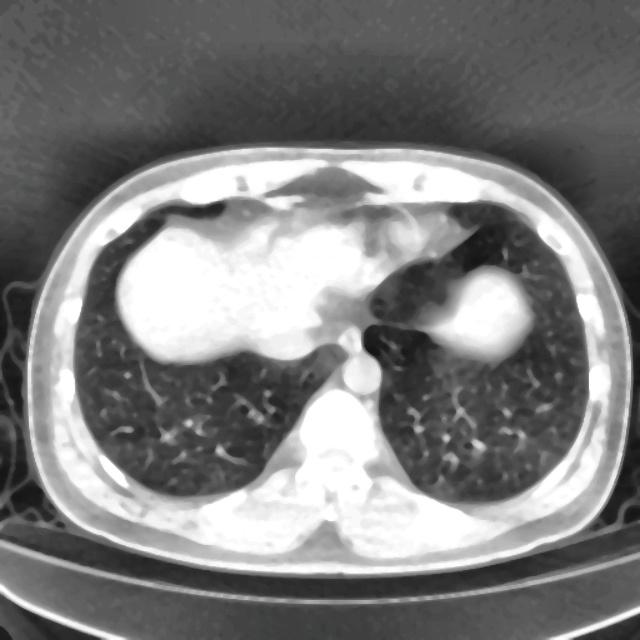covid: (22, 142, 634, 572)
